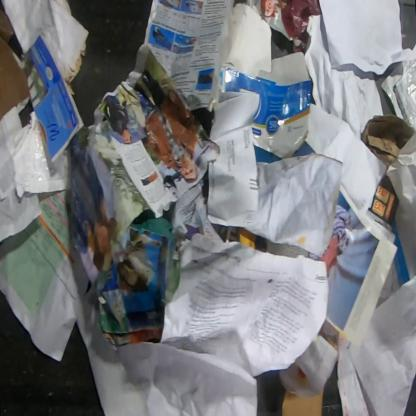cardboard: (219, 2, 316, 164), (360, 114, 415, 229), (0, 3, 31, 122), (280, 383, 327, 415)
soft_plastic: (400, 55, 415, 134)
